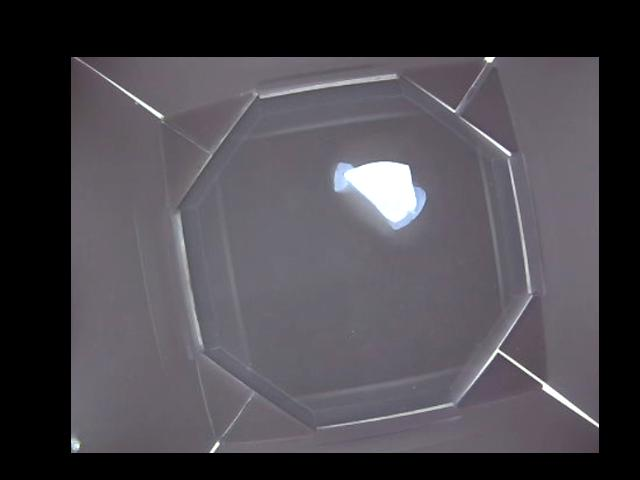China: (335, 154, 429, 229)
